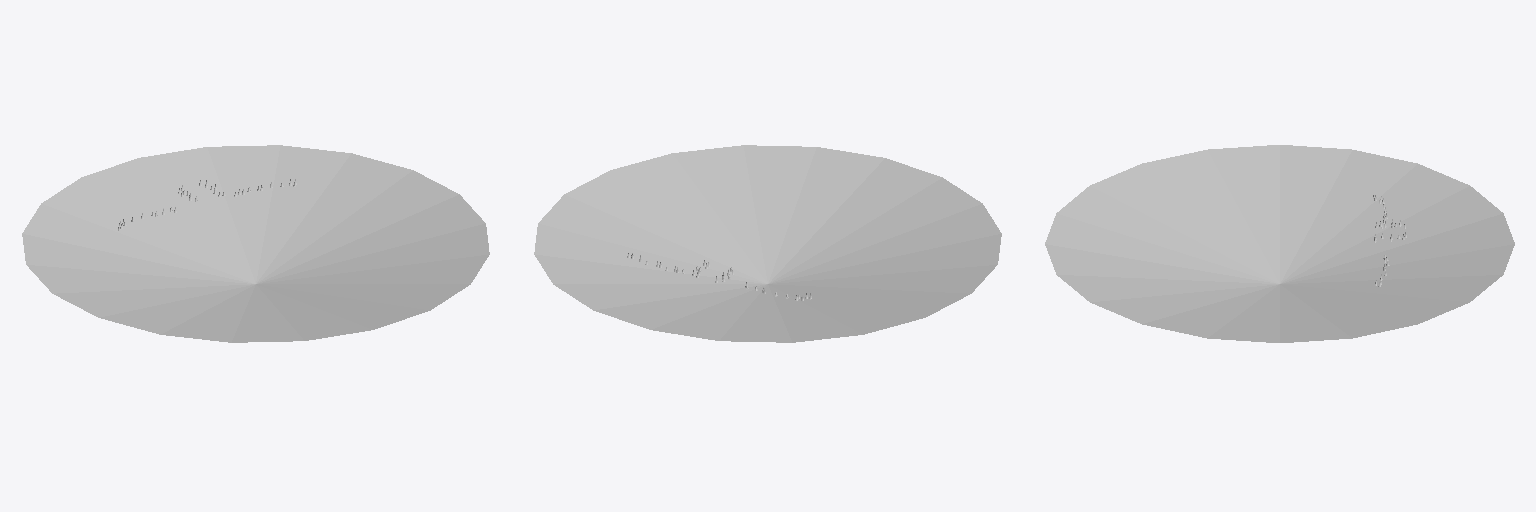
Rendered from trees_lowPoly.obj.
3 renders of one model, left to right at view 1: azimuth 30°, elevation 25°; view 2: azimuth 150°, elevation 25°; view 3: azimuth 270°, elevation 25°, orthographic.
Visible parts, largest first — view 1: pSphere1; view 2: pSphere1; view 3: pSphere1.
Part boxes in pixels (bbox=[...]): pSphere1: bbox=[22, 145, 489, 342]; pSphere1: bbox=[534, 145, 1001, 342]; pSphere1: bbox=[1045, 145, 1514, 342].
Bounding box in the file's own units: 474 × 62.81 × 474.